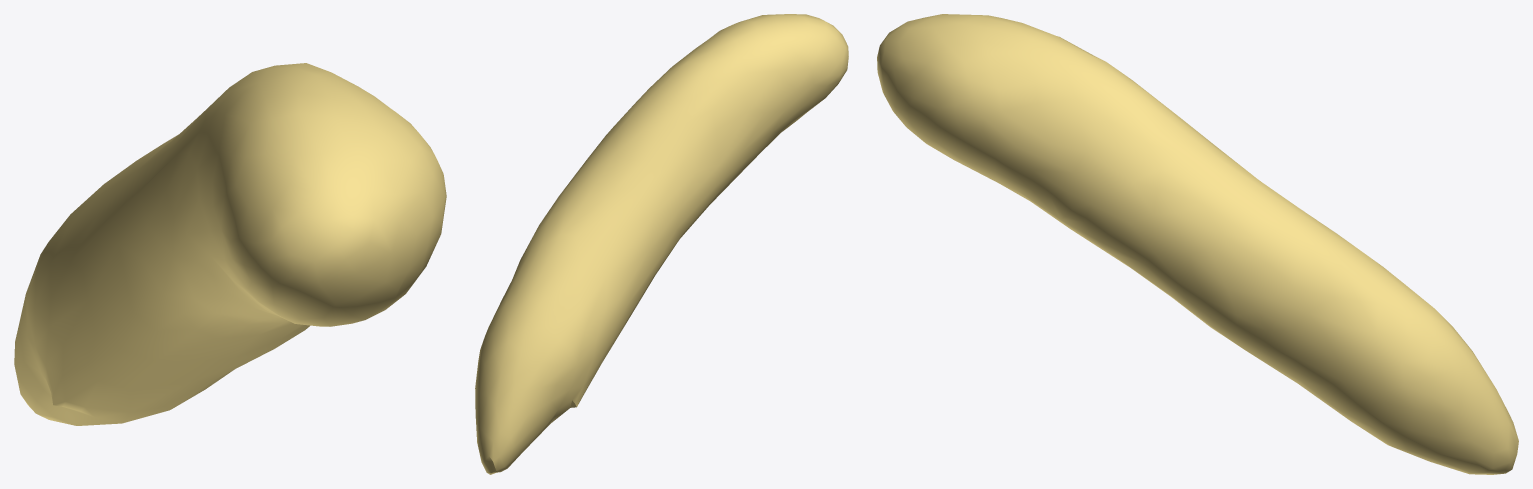
The model's file is fma73470_mm3559.glb.
The picture shows the model from 3 angles, left to right: view 1: azimuth 30°, elevation 25°; view 2: azimuth 150°, elevation 25°; view 3: azimuth 270°, elevation 25°; orthographic projection. The views are drawn at different scales.
Visible parts, largest first — view 1: FMA73470_MM3559; view 2: FMA73470_MM3559; view 3: FMA73470_MM3559.
Part boxes in pixels (x1,y1,x2,y2): FMA73470_MM3559: [14, 63, 446, 425]; FMA73470_MM3559: [475, 14, 848, 474]; FMA73470_MM3559: [877, 14, 1518, 474].
Bounding box in the file's own units: 0.00144 × 0.00255 × 0.00365.
